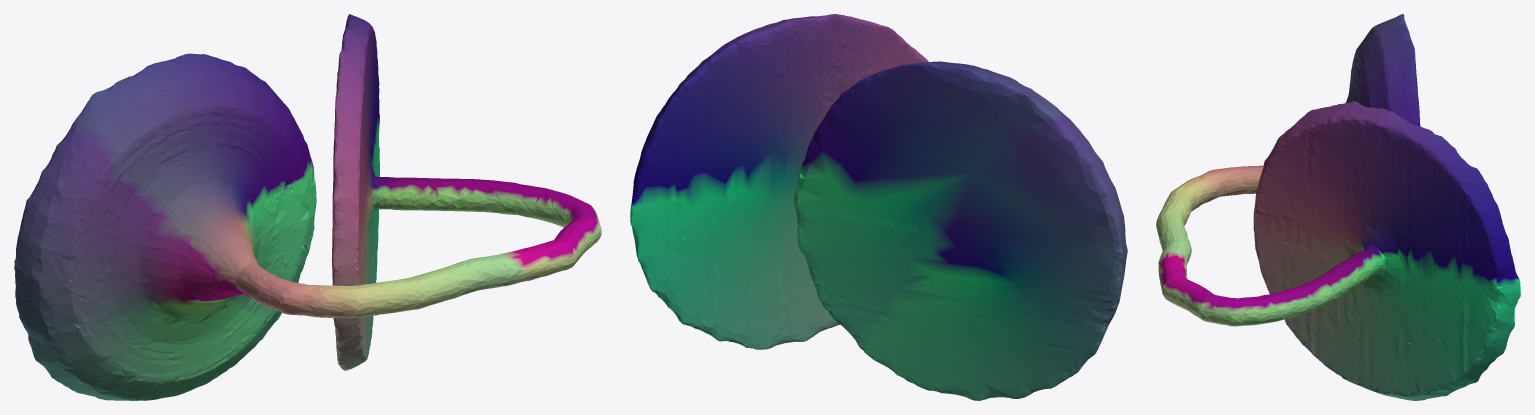
File: lamp-3.off.obj
3 views of the same model, side by side, from view 1: azimuth 30°, elevation 25°; view 2: azimuth 150°, elevation 25°; view 3: azimuth 270°, elevation 25° (orthographic). The views are drawn at different scales.
Size of the model in its own units: 1.62 by 1.04 by 1.18.
